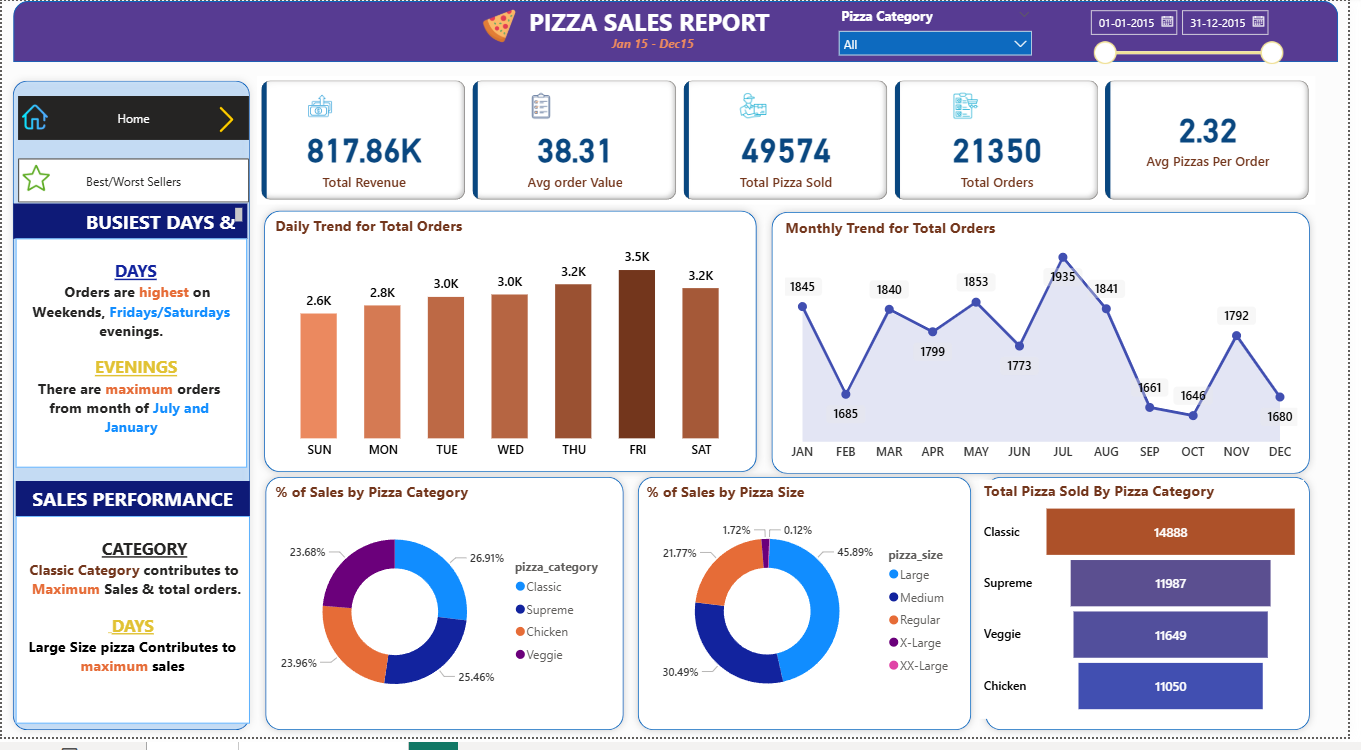

The dashboard page shown, as its layout file describes it:
{"tool":"powerbi","page":{"name":"Home","canvas":[1500,820],"ordinal":0},"visuals":[{"type":"cardVisual","fields":{"Data":["pizza_sales.Total Revenue","pizza_sales.Avg order Value","pizza_sales.Total Pizza Sold","pizza_sales.Total Orders","pizza_sales.Avg Pizzas Per Order"]},"box":[284.1,83.6,1179.6,143.4],"z":0},{"type":"shape","box":[12.5,0,1476.2,68.2],"z":1000},{"type":"textbox","box":[582.8,0,293.7,67.8],"z":2000},{"type":"textbox","box":[674.1,33.4,110,34.8],"z":3000},{"type":"image","box":[526.4,4.2,55.7,47.4],"z":4000},{"type":"shape","box":[284.6,225.9,564.8,307.2],"z":5000},{"type":"columnChart","title":"Daily Trend for Total Orders","fields":{"Category":["pizza_sales.Order Day"],"Y":["pizza_sales.Total Orders"]},"box":[299.4,238.1,534.8,281.3],"z":6000},{"type":"shape","box":[849.5,227,615.6,307.8],"z":7000},{"type":"areaChart","title":"Monthly Trend for Total Orders","fields":{"Category":["pizza_sales.Order Month"],"Y":["pizza_sales.Total Orders"]},"box":[867.6,240.9,580.7,281.3],"z":8000},{"type":"shape","box":[285.5,522.3,415,298],"z":9000},{"type":"shape","box":[700.5,522.3,387.2,298],"z":10000},{"type":"shape","box":[1087.7,522.3,377.4,298],"z":11000},{"type":"shape","box":[4.2,80.8,279.9,739.5],"z":12000},{"type":"donutChart","title":"% of Sales by Pizza Category","fields":{"Category":["pizza_sales.pizza_category"],"Y":["pizza_sales.Total Revenue"]},"box":[299.4,534.8,385.8,270.2],"z":13000},{"type":"textbox","box":[12.5,225.6,260.4,39],"z":14000},{"type":"donutChart","title":"% of Sales by Pizza Size","fields":{"Y":["pizza_sales.Total Revenue"],"Category":["pizza_sales.pizza_size"]},"box":[713,534.8,359.3,268.8],"z":15000},{"type":"funnel","title":"Total Pizza Sold By Pizza Category","fields":{"Category":["pizza_sales.pizza_category"],"Y":["pizza_sales.Total Pizza Sold"]},"box":[1088.9,533.1,361.4,266.6],"z":16000},{"type":"textbox","box":[15.3,264.6,257.6,254.9],"z":17000},{"type":"textbox","box":[15.3,534.8,260.4,39],"z":18000},{"type":"textbox","box":[15.3,573.8,260.4,231.2],"z":19000},{"type":"slicer","fields":{"Values":["pizza_sales.pizza_category"]},"box":[921.9,1.4,235.4,68.2],"z":20000},{"type":"slicer","fields":{"Values":["pizza_sales.order_date"]},"box":[1200.5,0,235.4,76.6],"z":21000},{"type":"pageNavigator","box":[17.7,106.1,257.3,49.9],"z":22000},{"type":"pageNavigator","box":[17.7,175.3,257.3,49.9],"z":23000},{"type":"image","box":[226.7,112.6,46.6,38.6],"z":24000},{"type":"image","box":[16.1,109.3,40.2,38.6],"z":25000},{"type":"image","box":[17.7,175.3,40.2,43.4],"z":26000}]}

Visuals, with their boxes in screenshot pixels (x1, y1, x2, y2), scaled from the page's 1500x820 canvas onto the 1361x750 screenshot:
cardVisual - pizza_sales.Total Revenue x pizza_sales.Avg order Value: 258/76/1328/208
shape: 11/0/1351/62
textbox: 529/0/795/62
textbox: 612/31/711/62
image: 478/4/528/47
shape: 258/207/771/488
"Daily Trend for Total Orders" columnChart: 272/218/757/475
shape: 771/208/1329/489
"Monthly Trend for Total Orders" areaChart: 787/220/1314/478
shape: 259/478/636/749
shape: 636/478/987/749
shape: 987/478/1329/749
shape: 4/74/258/749
"% of Sales by Pizza Category" donutChart: 272/489/622/736
textbox: 11/206/248/242
"% of Sales by Pizza Size" donutChart: 647/489/973/735
"Total Pizza Sold By Pizza Category" funnel: 988/488/1316/731
textbox: 14/242/248/475
textbox: 14/489/250/525
textbox: 14/525/250/736
slicer - pizza_sales.pizza_category: 836/1/1050/64
slicer - pizza_sales.order_date: 1089/0/1303/70
pageNavigator: 16/97/250/143
pageNavigator: 16/160/250/206
image: 206/103/248/138
image: 15/100/51/135
image: 16/160/53/200
